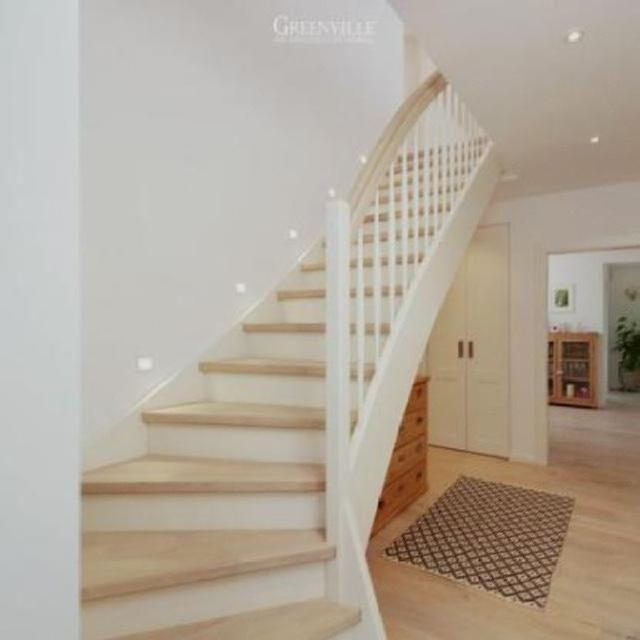stair: (43, 119, 529, 638)
